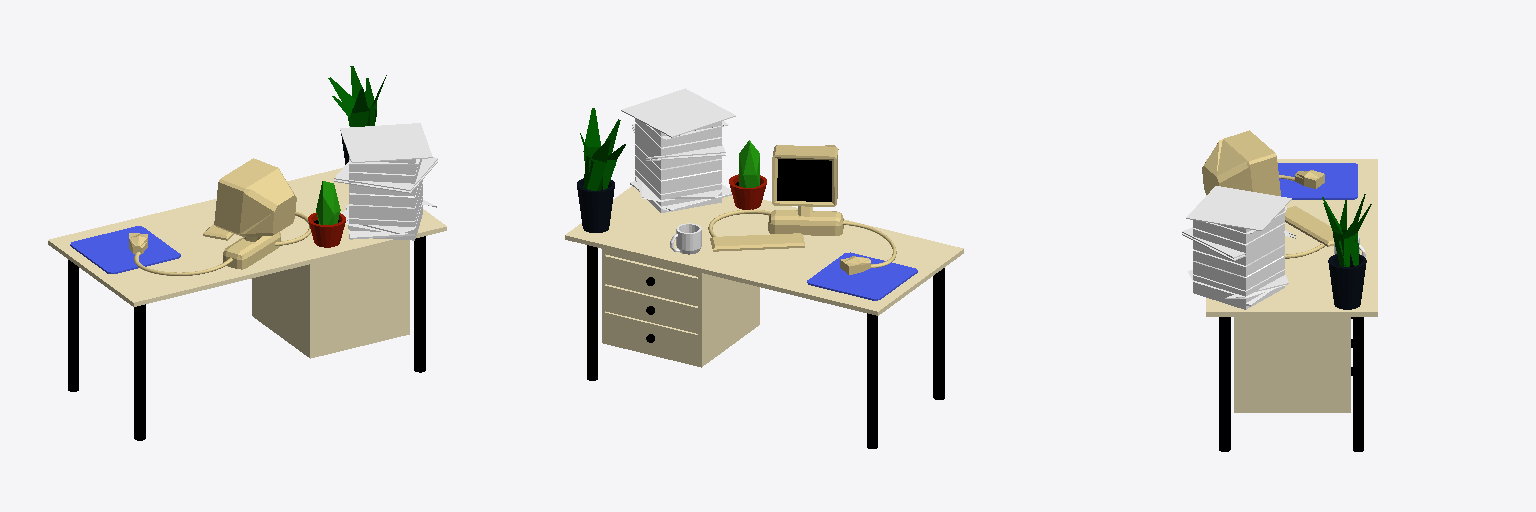
File: Desk_VariantOne_RA.obj
The picture shows the model from 3 angles: view 1: azimuth 30°, elevation 25°; view 2: azimuth 150°, elevation 25°; view 3: azimuth 270°, elevation 25°; orthographic projection.
Visible parts, largest first — view 1: curve3; view 2: curve3; view 3: curve3.
Boxes of the visible parts, box(x1,y1,x2,y2) form: curve3: box(48, 66, 446, 440); curve3: box(565, 88, 963, 448); curve3: box(1182, 130, 1377, 451).
Bounding box in the file's own units: 13.47 × 10.28 × 7.19.